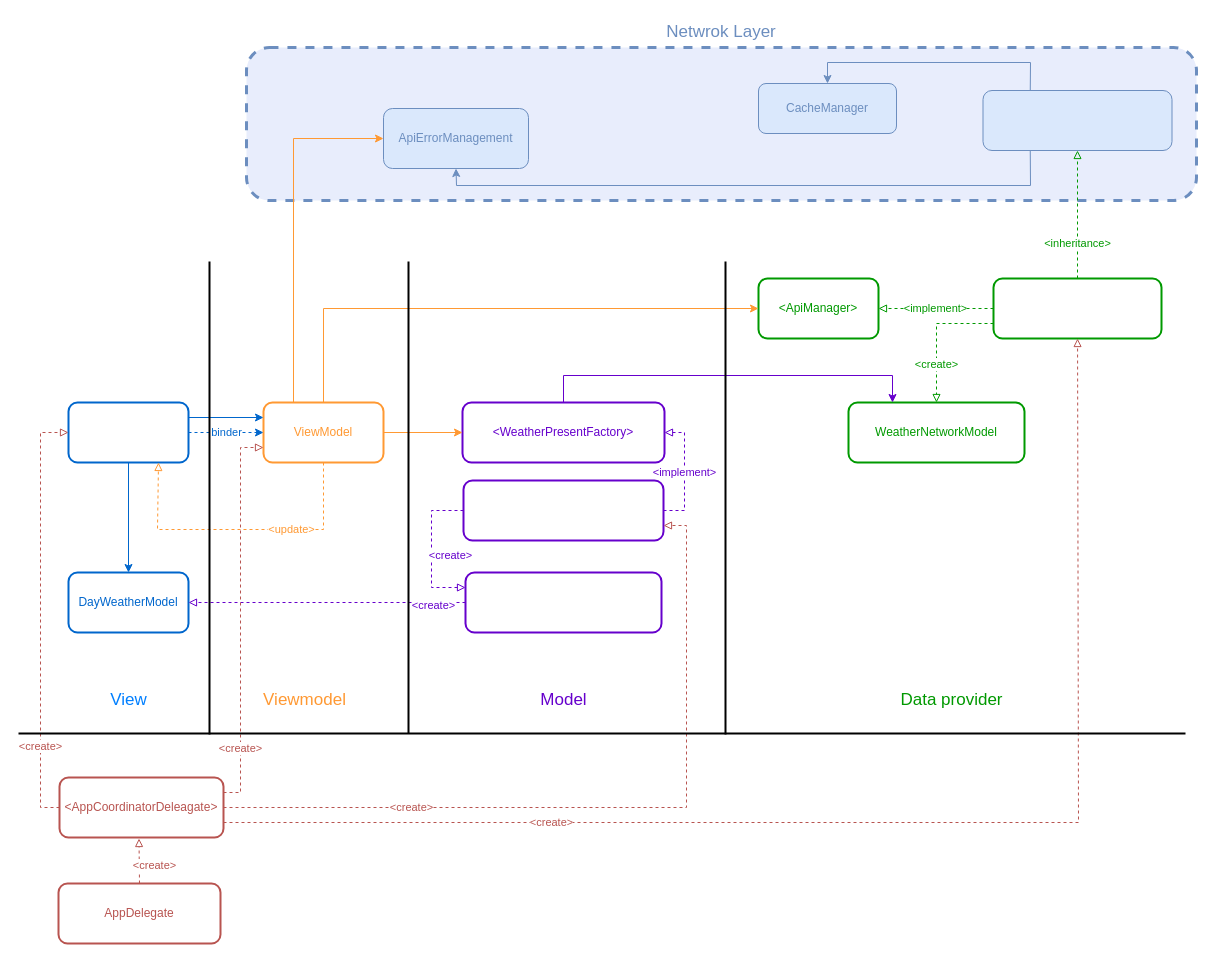
Some shapes in this 1215 by 961 pixel diagram are drawn without their labels. The centre of each missing label's shape, as x and y in pixels:
"MoyaNetwork" goes at [1077,120].
"NetworkWeatherPresentFactory" goes at [563,510].
"ViewController" goes at [128,432].
"WeatherNetworkApiManager" goes at [1077,308].
"WeatherPresentModel" goes at [563,602].
